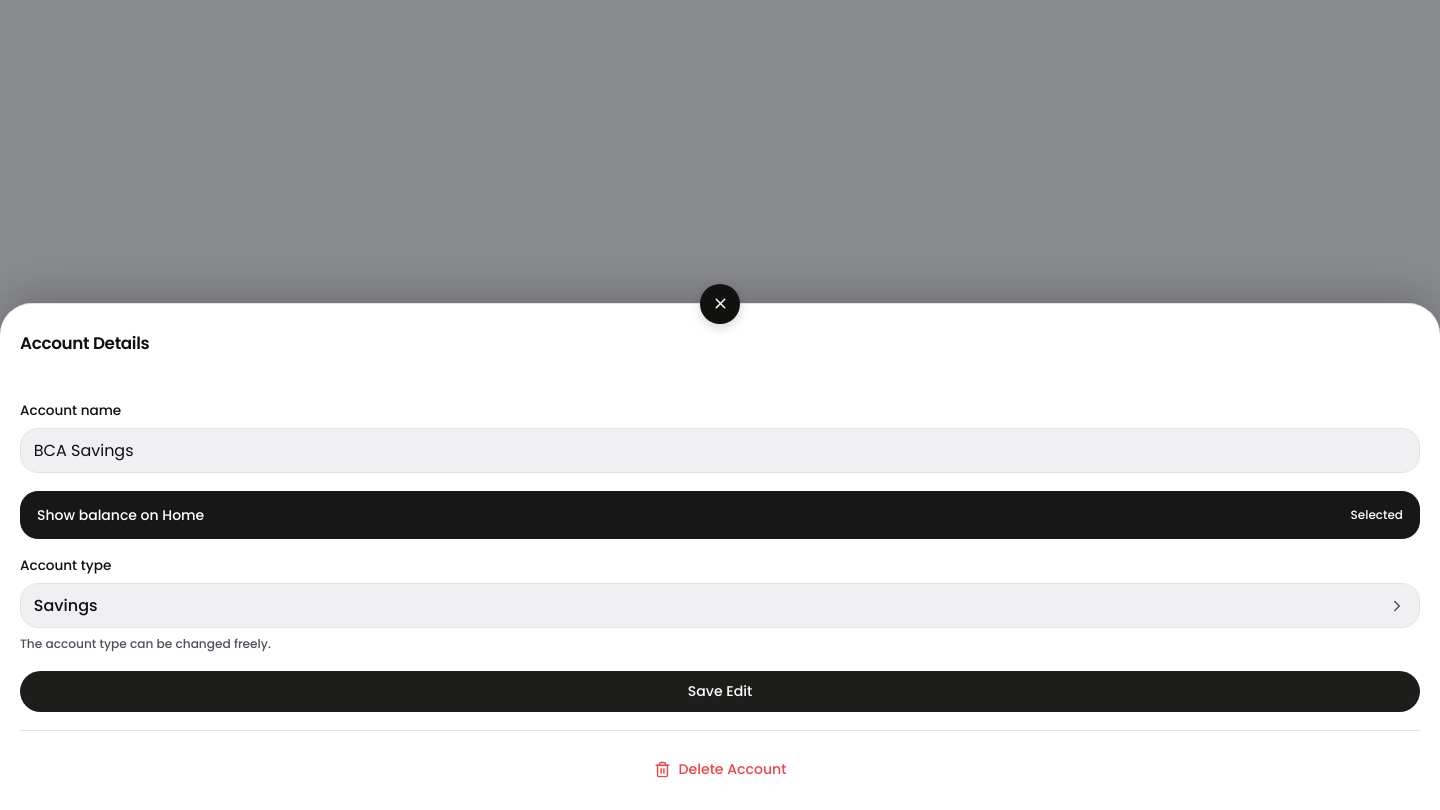
Test case: AccountDetailSheet › shows a delete confirmation before deleting
Click the button "Delete Account": (720, 769) 20,748 -> 1420,790
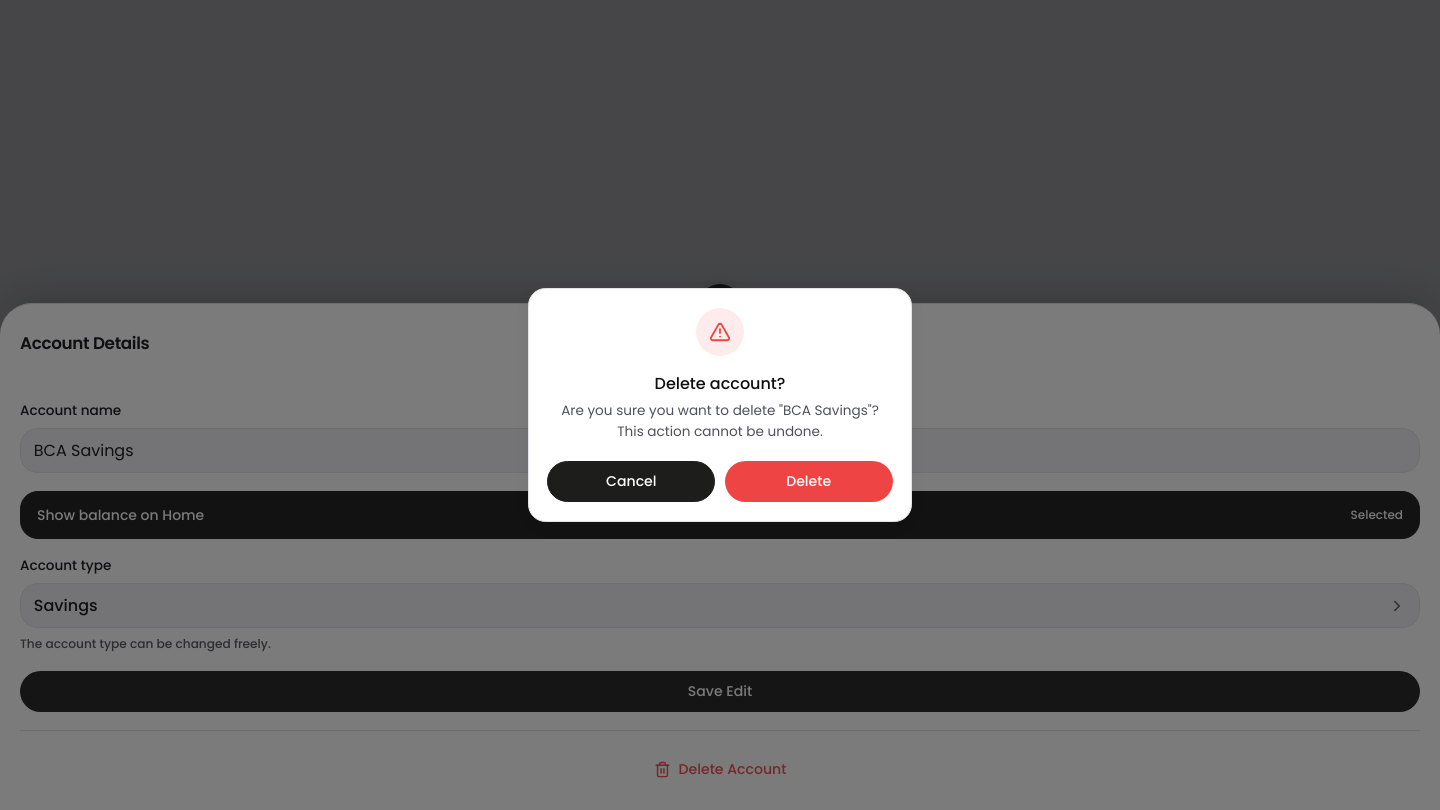
Result: the dialog "Delete account?" is shown
Result: the text "Are you sure you want to delete \"BCA Savings\"" is shown at 561,401 -> 879,441
